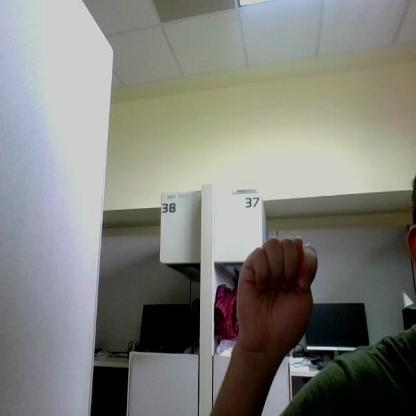T: (235, 237, 316, 345)
